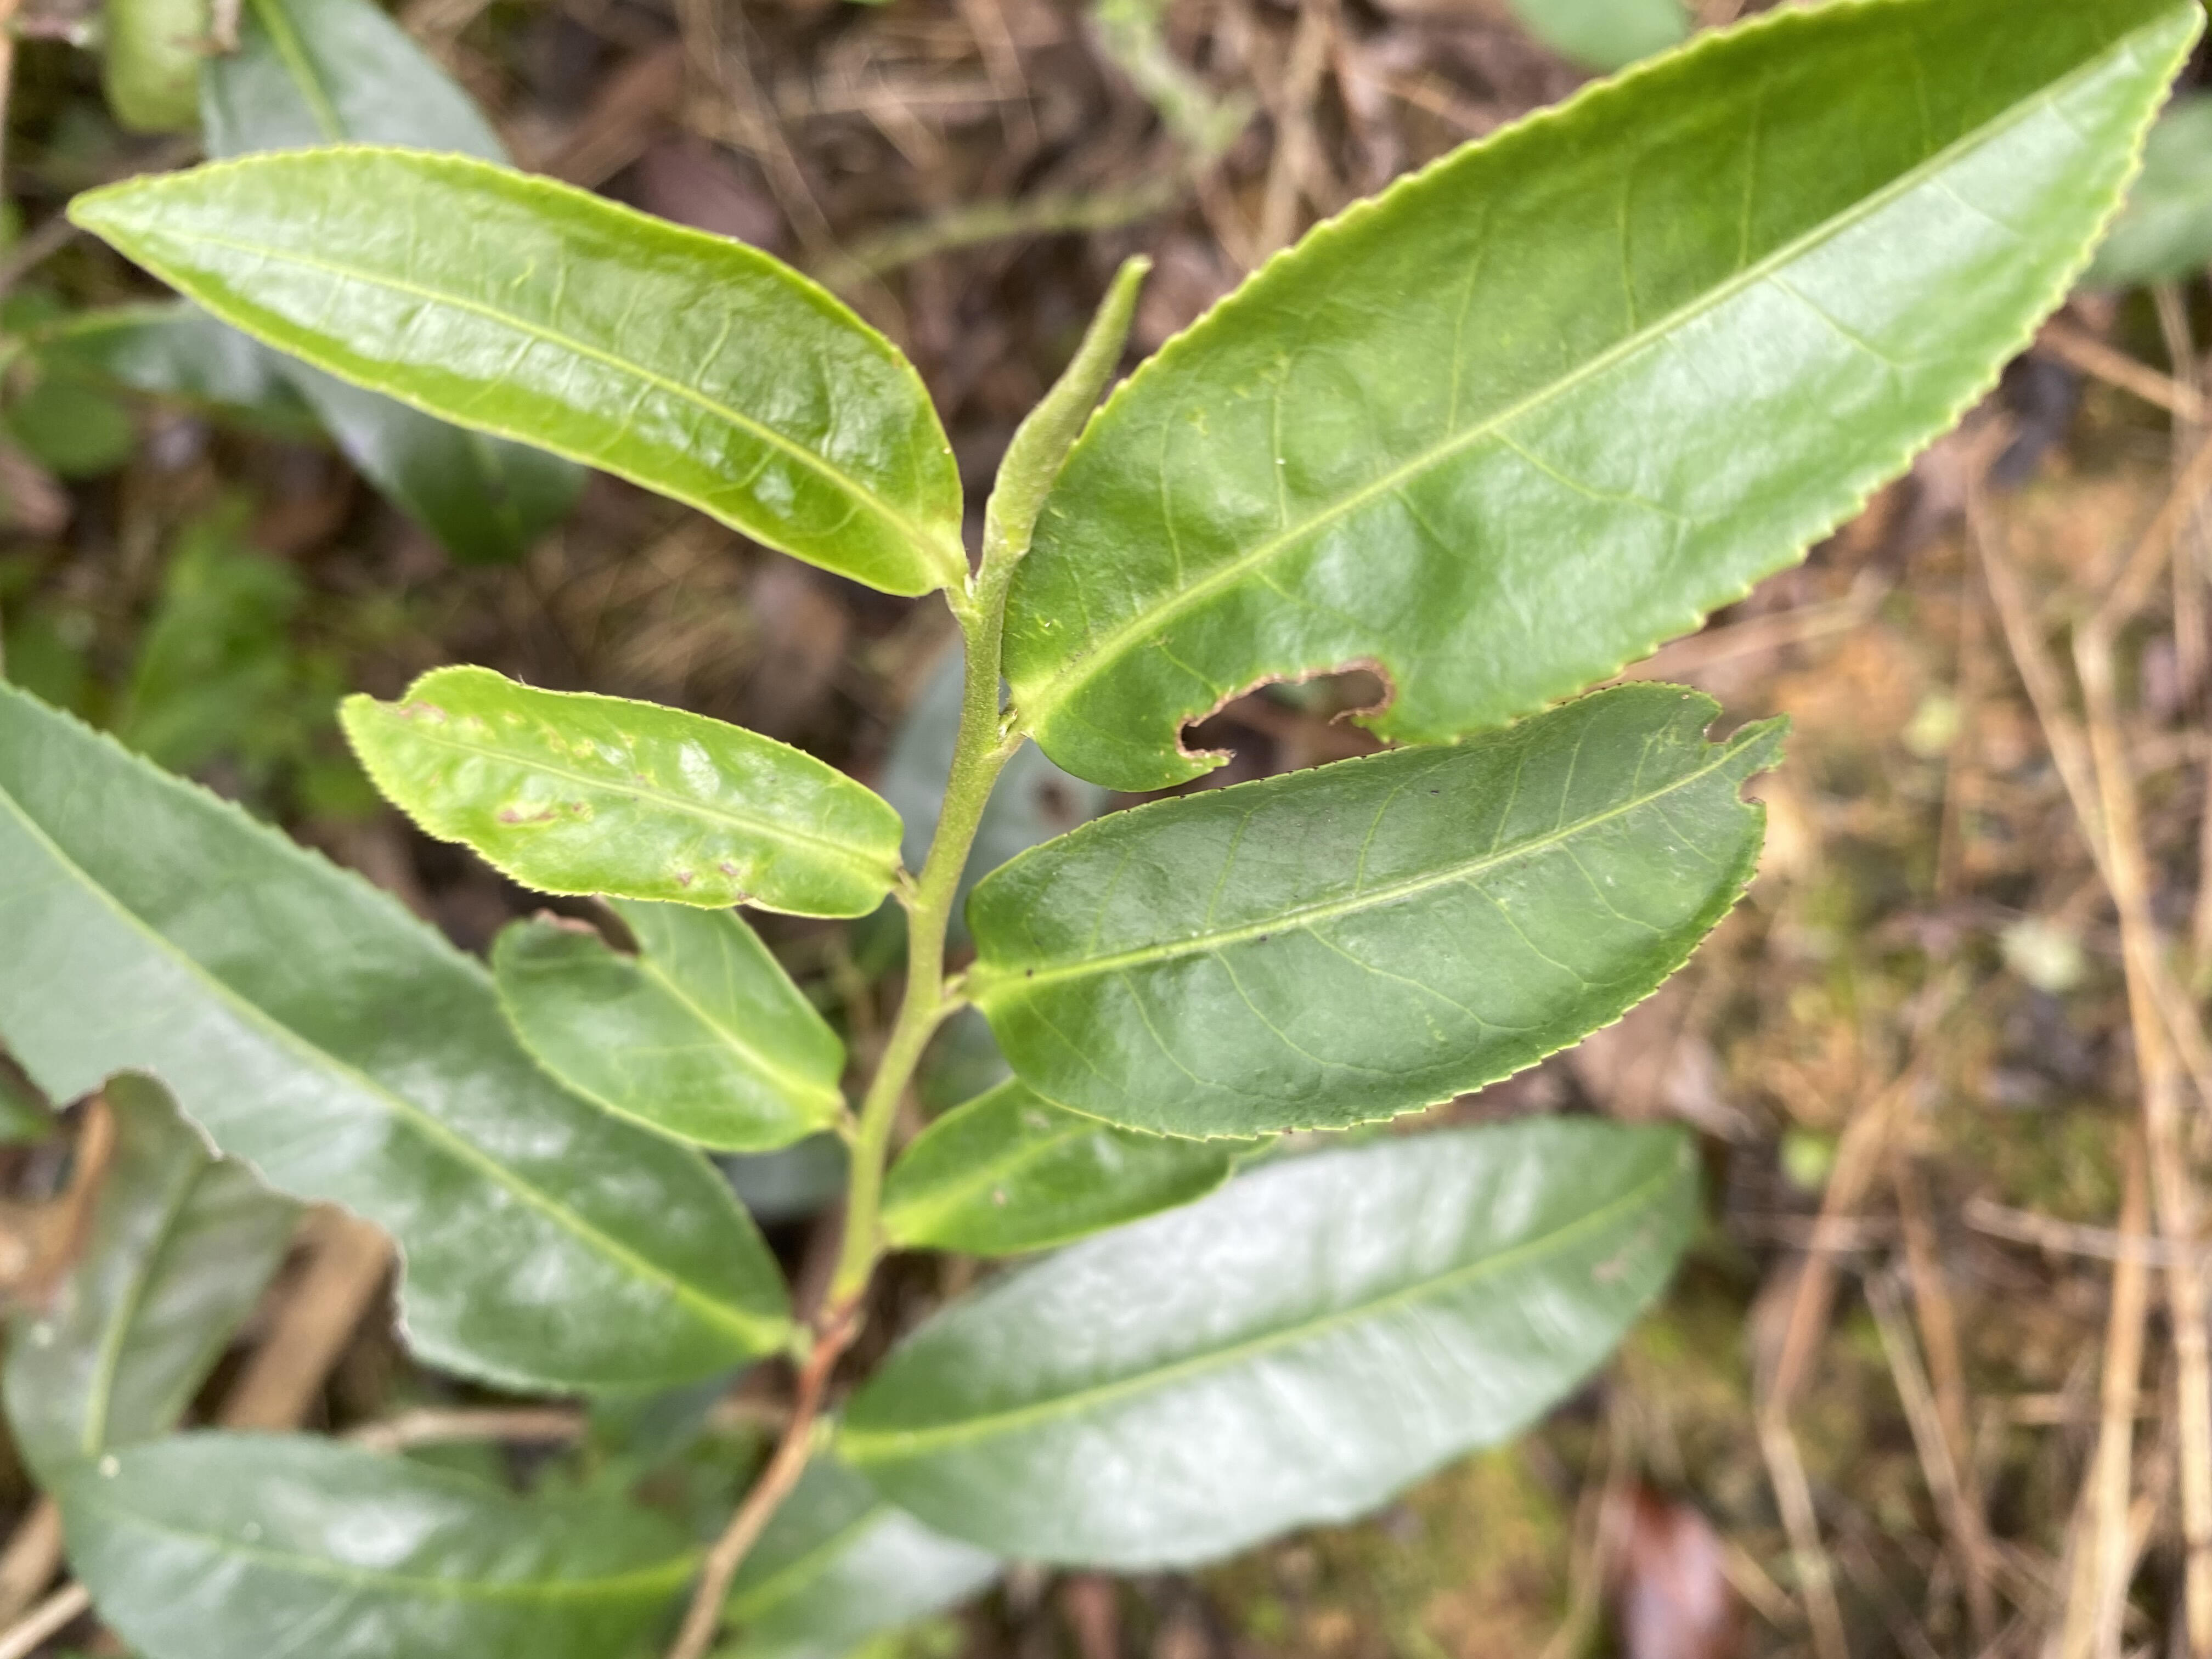chihuo_high: (965, 680, 1792, 1147)
chihuo_low: (1003, 2, 2203, 795), (2, 674, 794, 1391)
healthy: (64, 143, 963, 598)
tanju_low: (334, 660, 909, 917)
